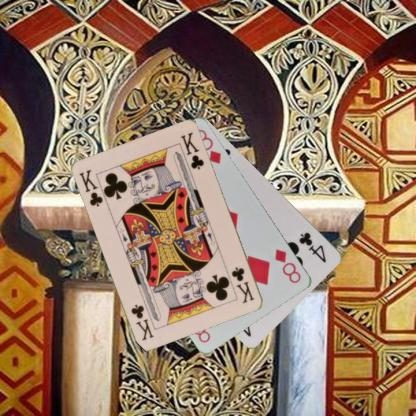4c: (296, 229, 328, 264)
8d: (272, 246, 302, 285)
Kc: (77, 167, 104, 208), (229, 265, 256, 305)
